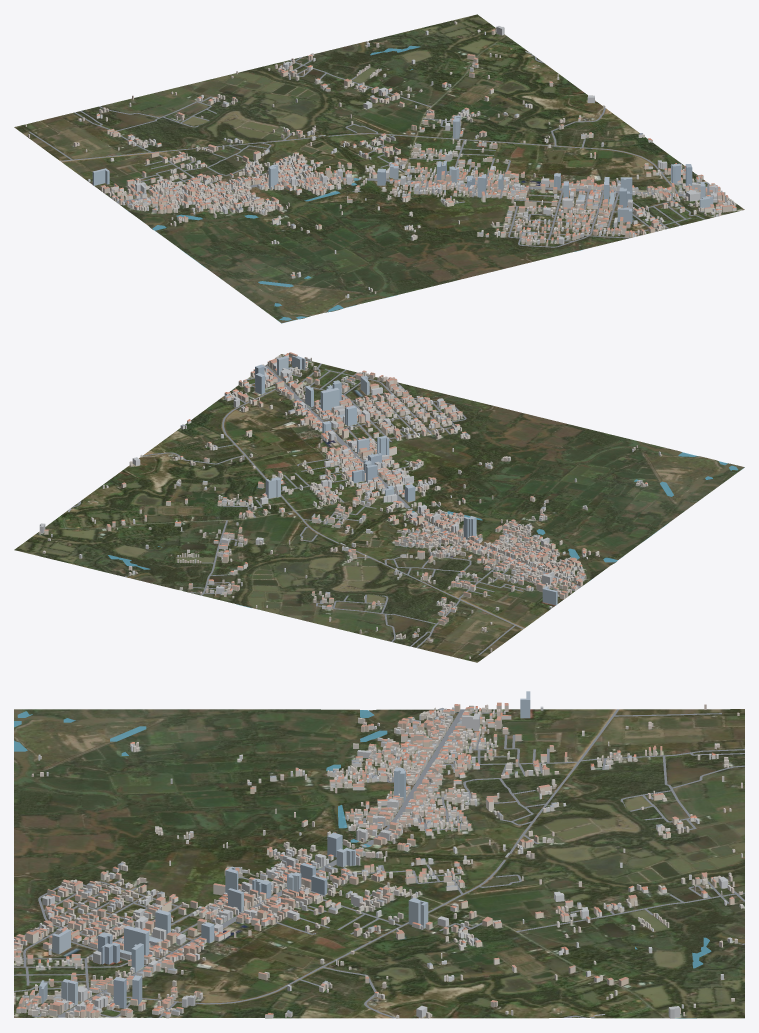
3 views of the same model, one above another, from view 1: azimuth 30°, elevation 25°; view 2: azimuth 150°, elevation 25°; view 3: azimuth 270°, elevation 25° (orthographic). The views are drawn at different scales.
Visible parts, largest first — view 1: TERRAIN, BLDG_TUBE_HOUSE, BLDG_SHOPHOUSE, ROAD_METRO, BLDG_MODERN_TOWER, BLDG_VILLA, WATER; view 2: TERRAIN, BLDG_TUBE_HOUSE, BLDG_SHOPHOUSE, BLDG_MODERN_TOWER, ROAD_METRO, BLDG_VILLA, WATER; view 3: TERRAIN, BLDG_TUBE_HOUSE, BLDG_SHOPHOUSE, BLDG_MODERN_TOWER, ROAD_METRO, BLDG_VILLA, WATER.
Boxes of the visible parts, box(x1,y1,x2,y2) form: TERRAIN: box(14, 14, 744, 323); BLDG_TUBE_HOUSE: box(25, 21, 735, 298); BLDG_SHOPHOUSE: box(100, 29, 732, 246); ROAD_METRO: box(29, 41, 726, 247); BLDG_MODERN_TOWER: box(92, 26, 717, 244); BLDG_VILLA: box(96, 63, 736, 278); WATER: box(124, 45, 583, 323); TERRAIN: box(14, 354, 744, 662); BLDG_TUBE_HOUSE: box(39, 355, 661, 658); BLDG_SHOPHOUSE: box(44, 352, 586, 625); BLDG_MODERN_TOWER: box(39, 356, 557, 605); ROAD_METRO: box(68, 363, 580, 654); BLDG_VILLA: box(121, 353, 647, 637); WATER: box(108, 452, 744, 608); TERRAIN: box(14, 709, 744, 1018); BLDG_TUBE_HOUSE: box(14, 704, 743, 1018); BLDG_SHOPHOUSE: box(14, 702, 734, 1017); BLDG_MODERN_TOWER: box(39, 691, 727, 1018); ROAD_METRO: box(14, 709, 744, 1018); BLDG_VILLA: box(14, 706, 728, 1018); WATER: box(14, 710, 711, 1018).
Bounding box in the file's own units: 2000 × 88.56 × 2000.
Materials: 8 (1 with a texture image).
